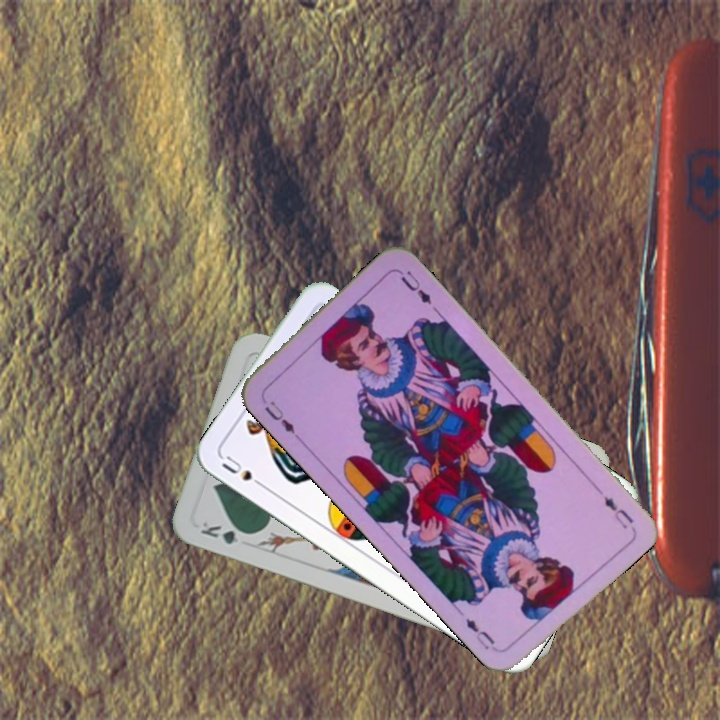EU: (260, 396, 303, 441), (599, 492, 637, 531)
GK: (196, 517, 254, 547)
SU: (217, 451, 270, 492)
